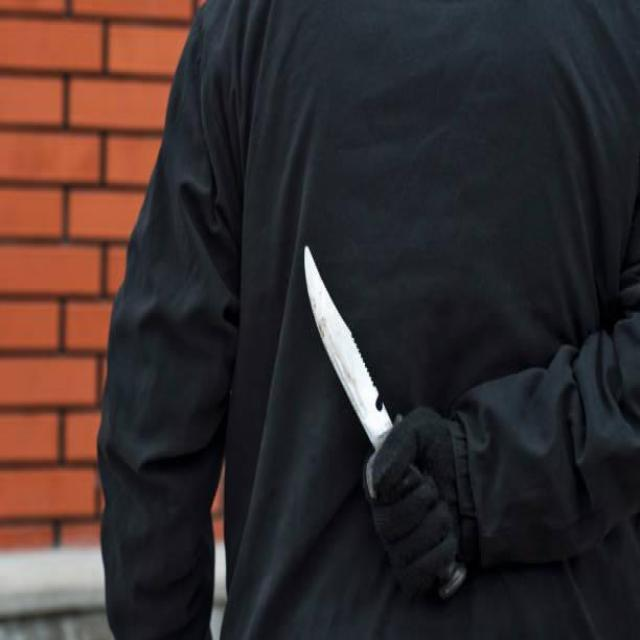faca: (292, 225, 492, 636)
